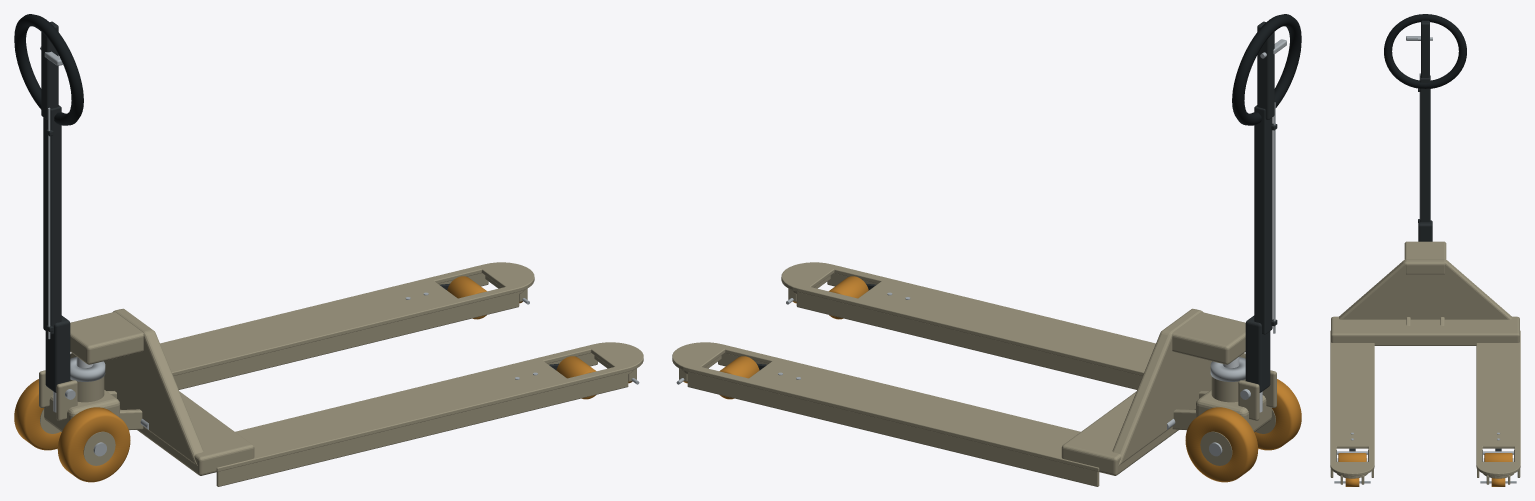
3 renders of one model, left to right at view 1: azimuth 30°, elevation 25°; view 2: azimuth 150°, elevation 25°; view 3: azimuth 270°, elevation 25°, orthographic. The views are drawn at different scales.
Parts seen in each view (by area): view 1: Fork top plate -1, Fork top plate 1, Fork channel sidewall (-1, -1), Raised triangular fork frame, Fork channel sidewall (1, -1), Tall tiller stem, Large steer wheel -1, Rear fork cross bridge, Ram upper saddle, Open oval tiller hand grip, Large steer wheel 1, Lower reinforced tiller (+4 smaller); view 2: Fork top plate 1, Fork top plate -1, Fork channel sidewall (1, 1), Raised triangular fork frame, Fork channel sidewall (-1, 1), Tall tiller stem, Large steer wheel 1, Rear fork cross bridge, Ram upper saddle, Open oval tiller hand grip, Large steer wheel -1, Lower reinforced tiller (+3 smaller); view 3: Raised triangular fork frame, Fork top plate -1, Fork top plate 1, Rear fork cross bridge, Open oval tiller hand grip, Tall tiller stem, Ram upper saddle, Grip central stem, Lower reinforced tiller, Release linkage rod, Load wheel -1, Load wheel 1.
Boxes of the visible parts, bbox=[...] form: Fork top plate -1: bbox=[216, 342, 643, 471]; Fork top plate 1: bbox=[160, 262, 534, 375]; Fork channel sidewall (-1, -1): bbox=[216, 372, 628, 486]; Raised triangular fork frame: bbox=[70, 308, 203, 465]; Fork channel sidewall (1, -1): bbox=[173, 292, 519, 389]; Tall tiller stem: bbox=[43, 105, 61, 334]; Large steer wheel -1: bbox=[57, 407, 130, 482]; Rear fork cross bridge: bbox=[70, 353, 254, 475]; Ram upper saddle: bbox=[70, 312, 143, 364]; Open oval tiller hand grip: bbox=[14, 14, 83, 125]; Large steer wheel 1: bbox=[14, 379, 61, 450]; Lower reinforced tiller: bbox=[45, 315, 70, 392]; Fork top plate 1: bbox=[672, 342, 1099, 471]; Fork top plate -1: bbox=[781, 262, 1155, 375]; Fork channel sidewall (1, 1): bbox=[687, 372, 1099, 486]; Raised triangular fork frame: bbox=[1112, 308, 1245, 465]; Fork channel sidewall (-1, 1): bbox=[796, 292, 1142, 389]; Tall tiller stem: bbox=[1254, 105, 1272, 334]; Large steer wheel 1: bbox=[1185, 407, 1258, 482]; Rear fork cross bridge: bbox=[1061, 353, 1245, 475]; Ram upper saddle: bbox=[1172, 312, 1245, 364]; Open oval tiller hand grip: bbox=[1232, 14, 1301, 125]; Large steer wheel -1: bbox=[1254, 379, 1301, 450]; Lower reinforced tiller: bbox=[1245, 315, 1270, 392]; Raised triangular fork frame: bbox=[1339, 259, 1511, 319]; Fork top plate -1: bbox=[1330, 330, 1374, 476]; Fork top plate 1: bbox=[1476, 330, 1520, 476]; Rear fork cross bridge: bbox=[1331, 316, 1519, 345]; Open oval tiller hand grip: bbox=[1384, 14, 1466, 88]; Tall tiller stem: bbox=[1420, 75, 1430, 222]; Ram upper saddle: bbox=[1404, 241, 1446, 274]; Grip central stem: bbox=[1421, 20, 1429, 77]; Lower reinforced tiller: bbox=[1418, 220, 1432, 241]; Release linkage rod: bbox=[1419, 73, 1420, 219]; Load wheel -1: bbox=[1338, 453, 1366, 461]; Load wheel 1: bbox=[1484, 453, 1512, 461].
Size of the model in its own units: 1.52 by 1.2 by 0.6858.
